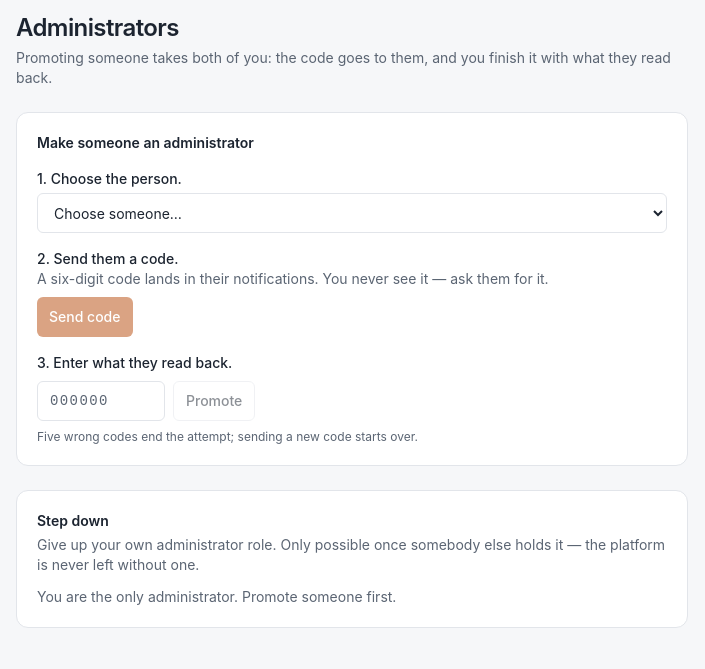
AdminHandoverPage › sends the code to the person being promoted, and never shows it
Select "Demo Faculty 01 · Faculty / researcher · DEMOFACULTY01" in the dropdown named "person to promote": [352, 213] box [37,193,667,233]
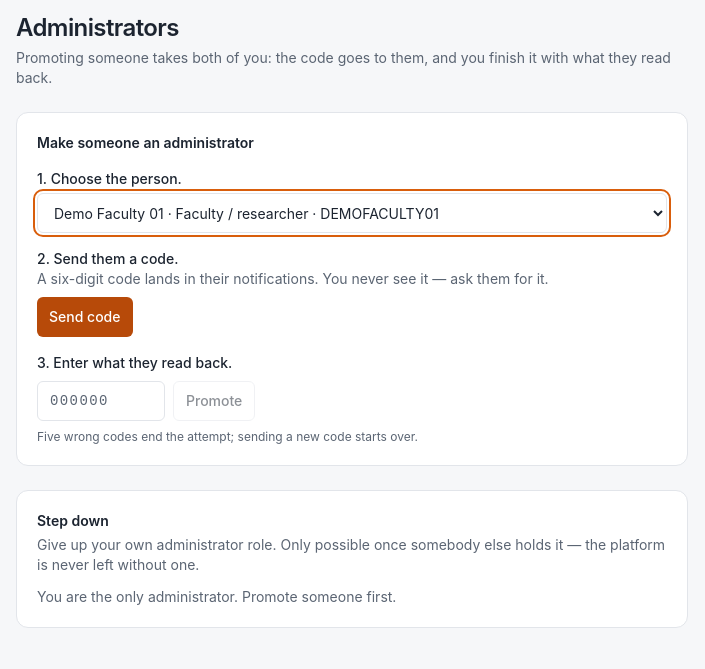
Click the button "Send code": [85, 317] box [37,297,132,337]
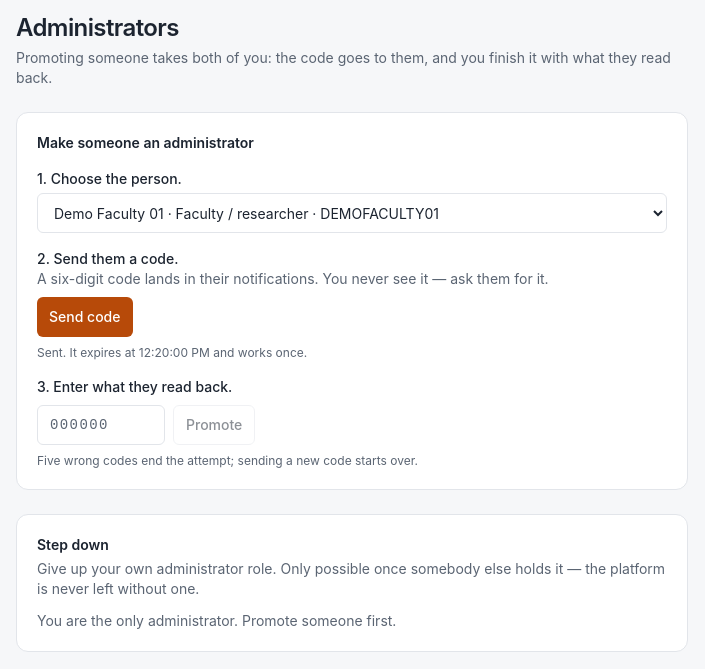
expect the text "Sent. It expires at 12:20:00 PM and works once." is shown: met, box [37,345,307,360]
